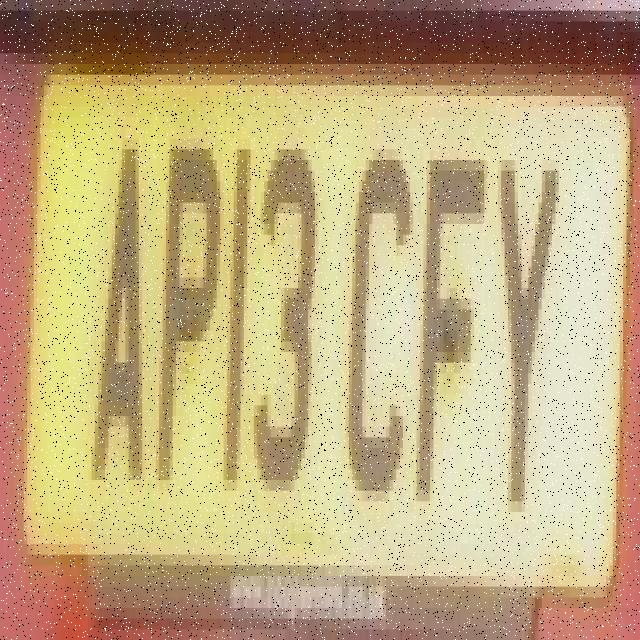licenseplate: (22, 28, 629, 630)
